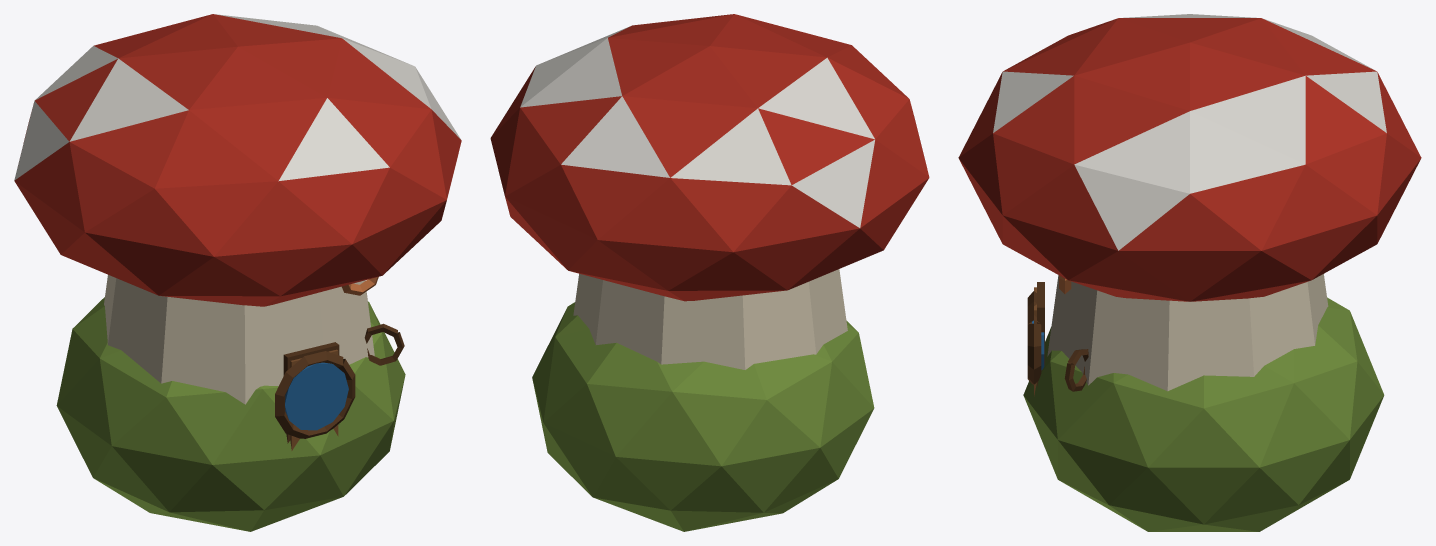
Rendered from gnome_hall.glb.
3 renders of one model, left to right at view 1: azimuth 30°, elevation 25°; view 2: azimuth 150°, elevation 25°; view 3: azimuth 270°, elevation 25°, orthographic. The views are drawn at different scales.
Parts seen in each view (by area): view 1: gnome_hall; view 2: gnome_hall; view 3: gnome_hall.
Part boxes in pixels (<box>): gnome_hall: <box>14,14,461,531</box>; gnome_hall: <box>490,14,929,531</box>; gnome_hall: <box>958,14,1421,531</box>.
Bounding box in the file's own units: 2.22 × 2.64 × 2.33.
